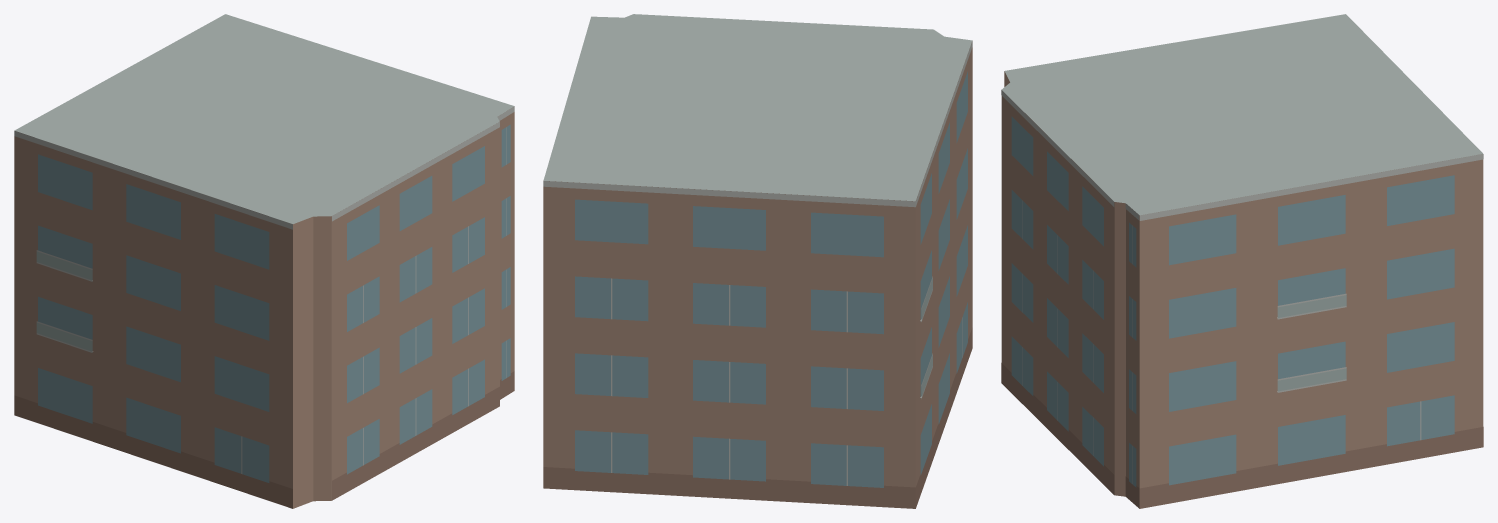
Rendered from survey-upis-32860462.glb.
3 renders of one model, left to right at view 1: azimuth 30°, elevation 25°; view 2: azimuth 150°, elevation 25°; view 3: azimuth 270°, elevation 25°, orthographic. The views are drawn at different scales.
Visible parts, largest first — view 1: survey-upis-32860462.tmp; view 2: survey-upis-32860462.tmp; view 3: survey-upis-32860462.tmp.
Part boxes in pixels (left/top/right/bottom): survey-upis-32860462.tmp: left=14, top=14, right=514, bottom=508; survey-upis-32860462.tmp: left=543, top=14, right=972, bottom=508; survey-upis-32860462.tmp: left=1001, top=14, right=1483, bottom=508.
Bounding box in the file's own units: 18.55 × 12.6 × 18.76.
